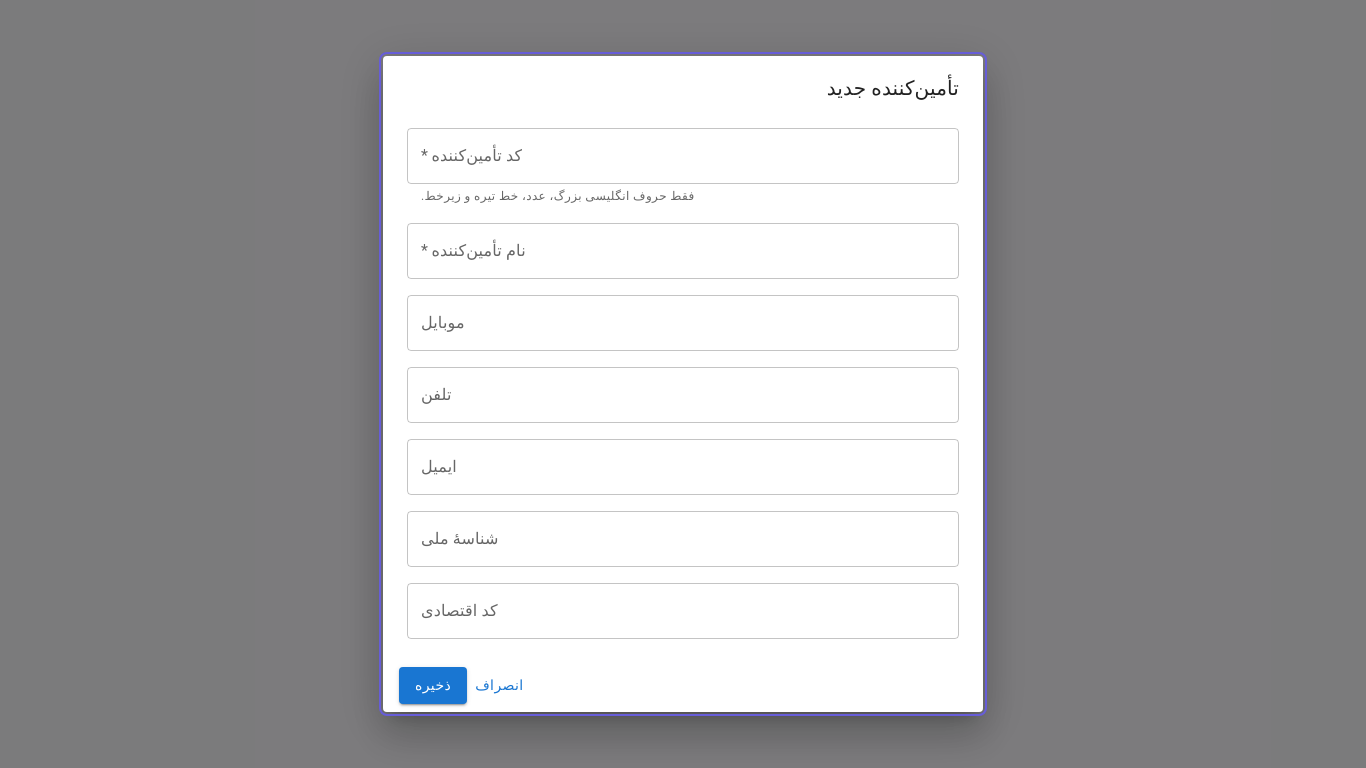
Test case: SupplierDialog › surfaces a duplicate-code conflict in Persian
Step 1. Type "SUP-1" into the field labelled "کد تأمین‌کننده" → (683, 156), box [407, 128, 959, 184]
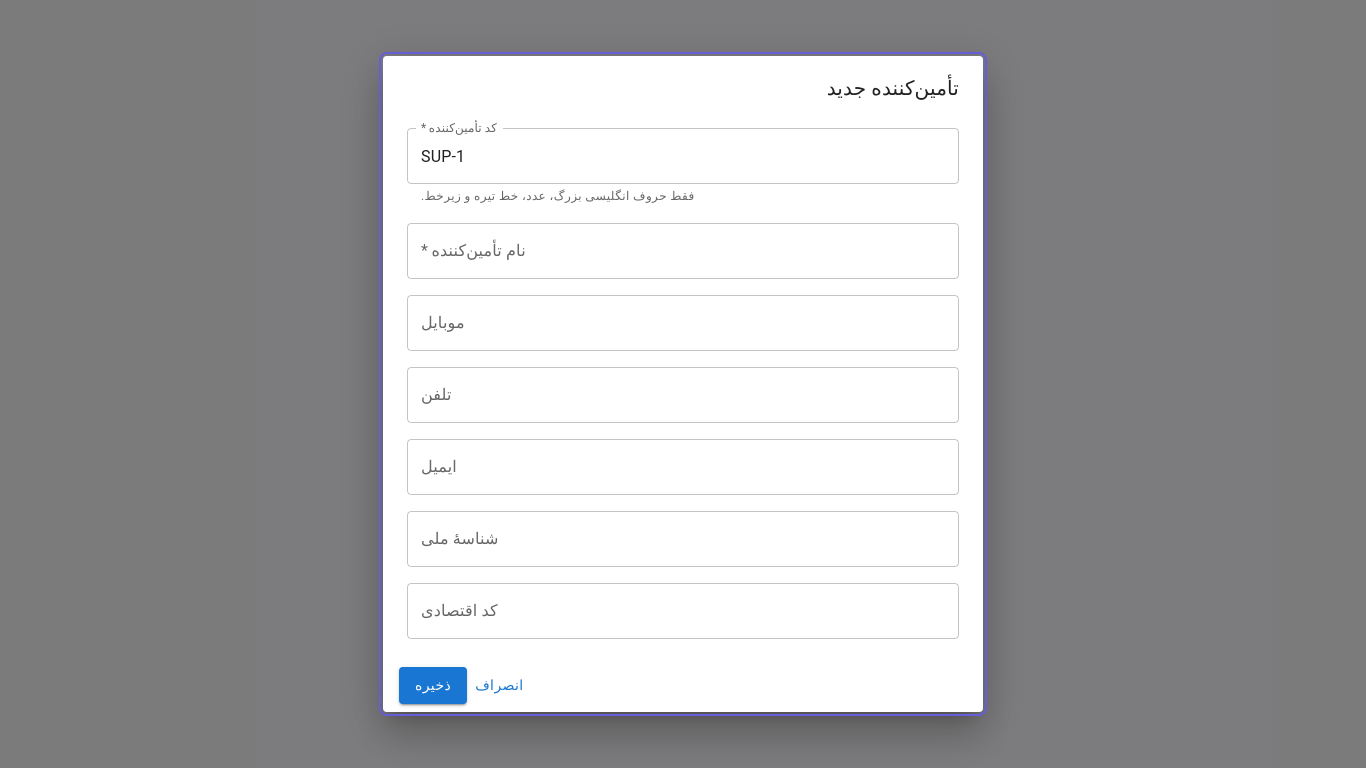
Step 2. Type "نام" into the field labelled "نام تأمین‌کننده" → (683, 251), box [407, 223, 959, 279]
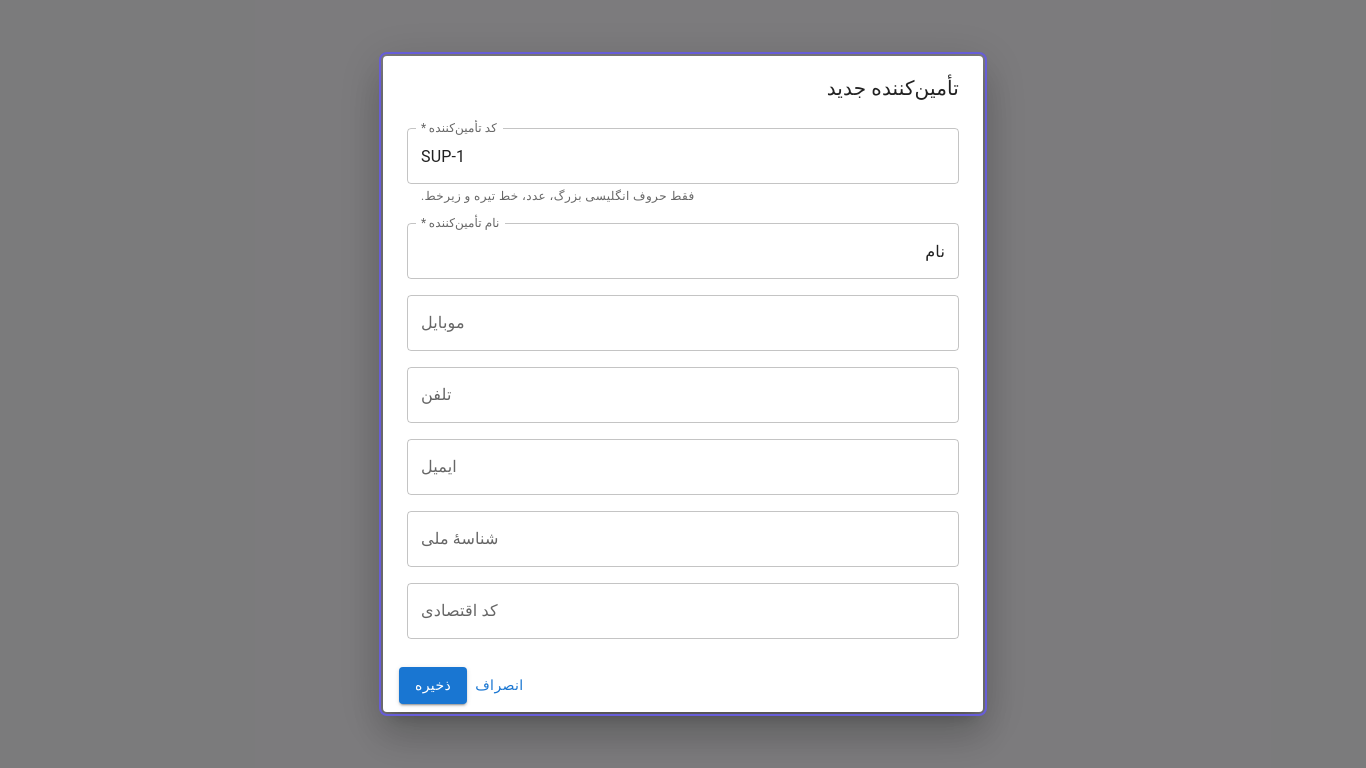
Step 3. Click the button "ذخیره" → click(433, 685), box [399, 667, 467, 704]
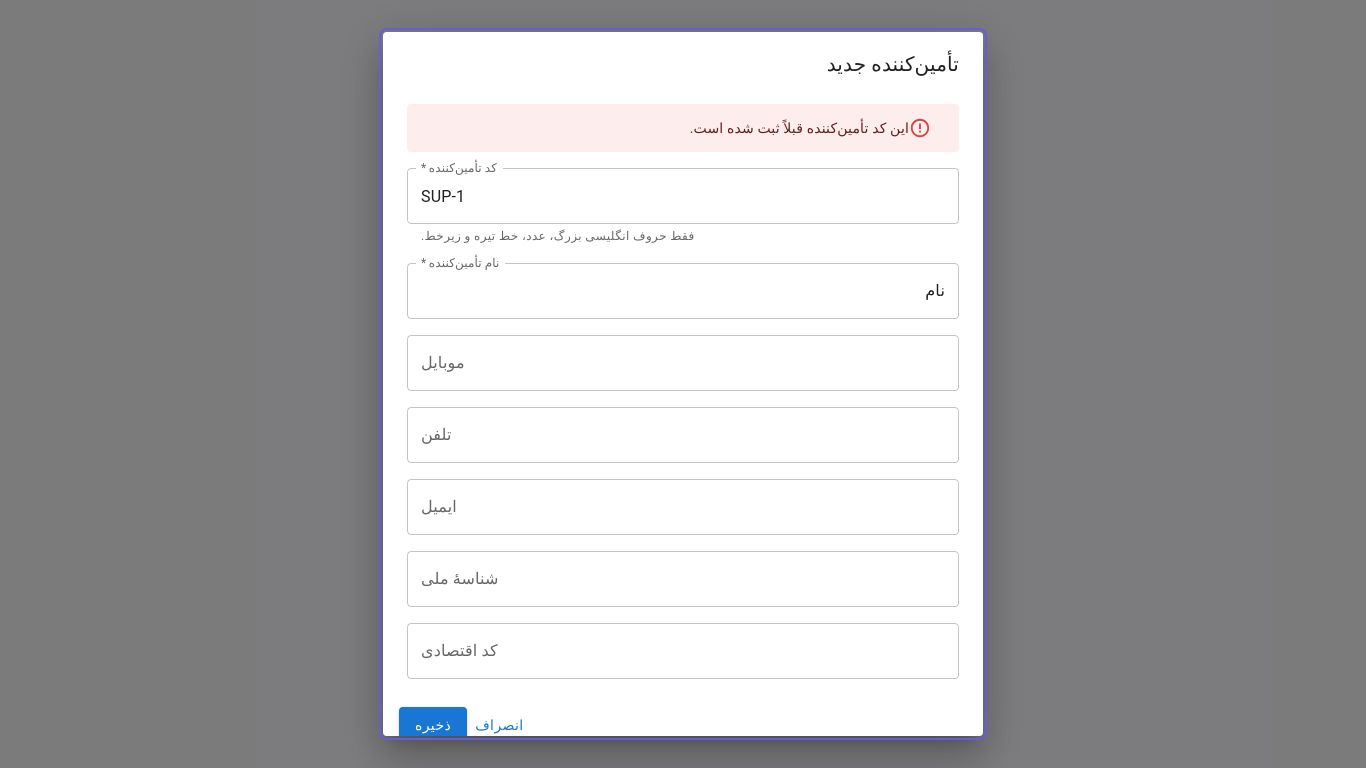
Expected: the text "این کد تأمین‌کننده قبلاً ثبت شده است." is shown, [690, 120, 909, 136]
